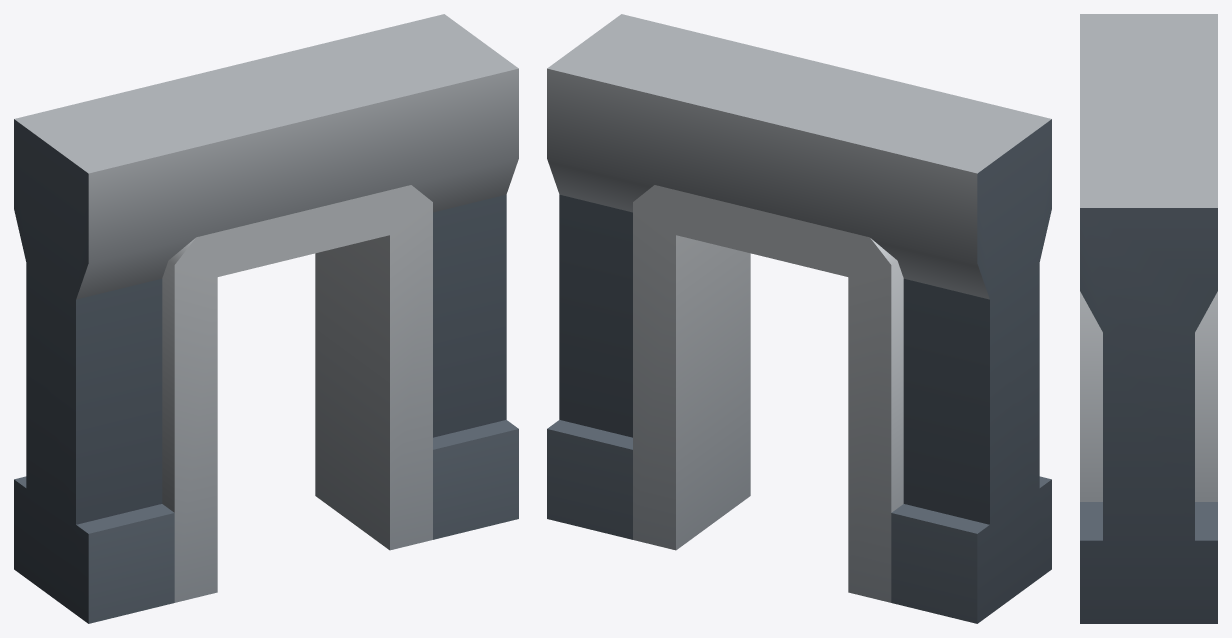
File: wall-door.glb
3 views of the same model, side by side, from view 1: azimuth 30°, elevation 25°; view 2: azimuth 150°, elevation 25°; view 3: azimuth 270°, elevation 25° (orthographic). The views are drawn at different scales.
Parts seen in each view (by area): view 1: wall-door; view 2: wall-door; view 3: wall-door.
Part boxes in pixels (x1,y1,x2,y2): wall-door: (14, 14, 518, 623); wall-door: (547, 14, 1051, 623); wall-door: (1080, 14, 1217, 623).
Size of the model in its own units: 1 by 1 by 0.3.
